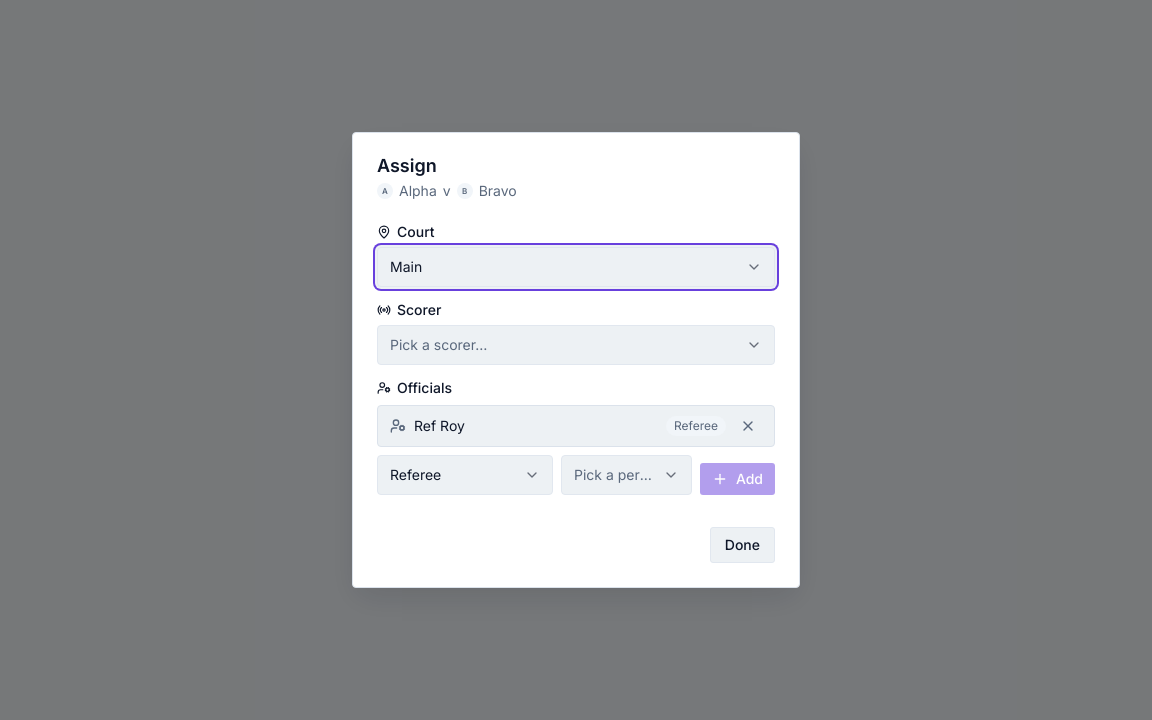
Scenario: AssignDrawer › still shows a hard error when the server actually refuses
The image size is (1152, 720).
Click the button "Pick a person…". click: (626, 475)
box: left=561, top=455, right=692, bottom=495
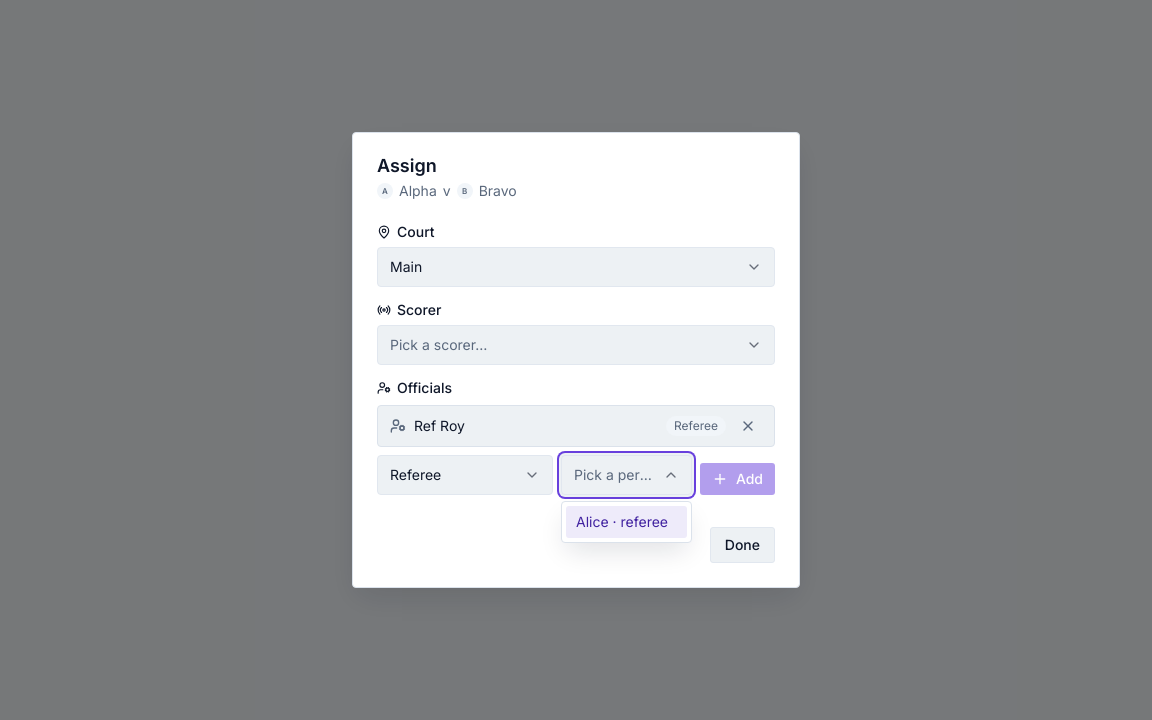
Click the option "Alice · referee". click: (626, 522)
box: left=566, top=506, right=687, bottom=538
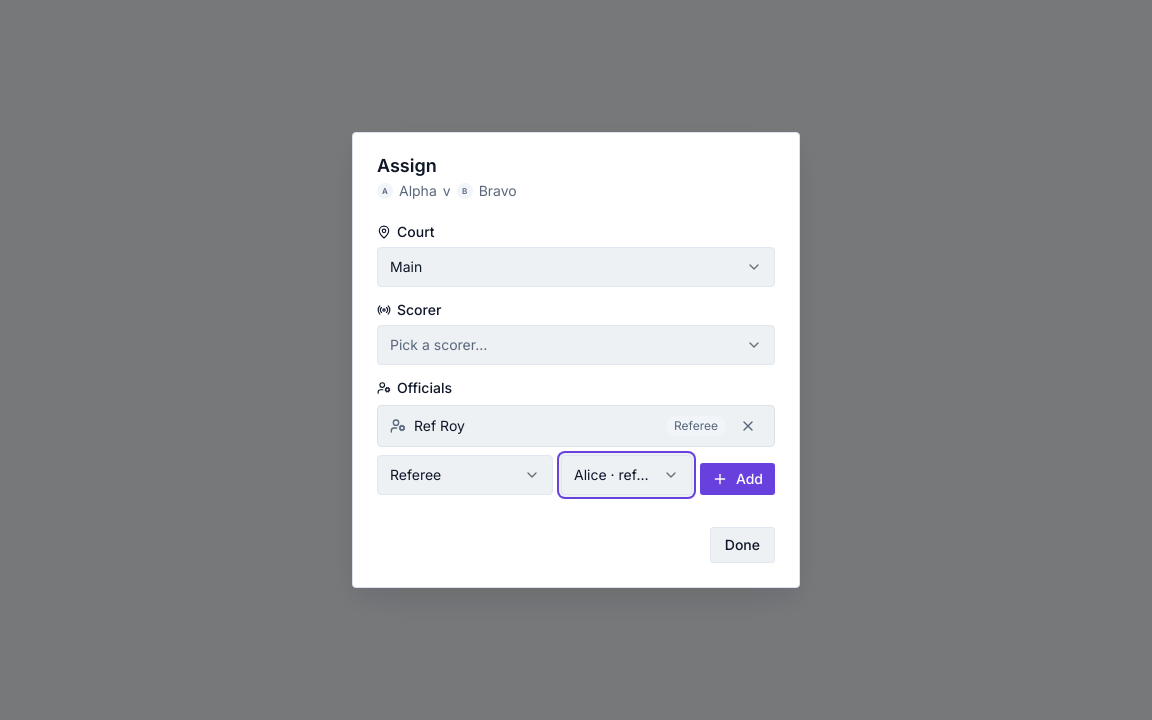
Click the button with test id "add-official". click: (737, 479)
box: left=700, top=463, right=775, bottom=495
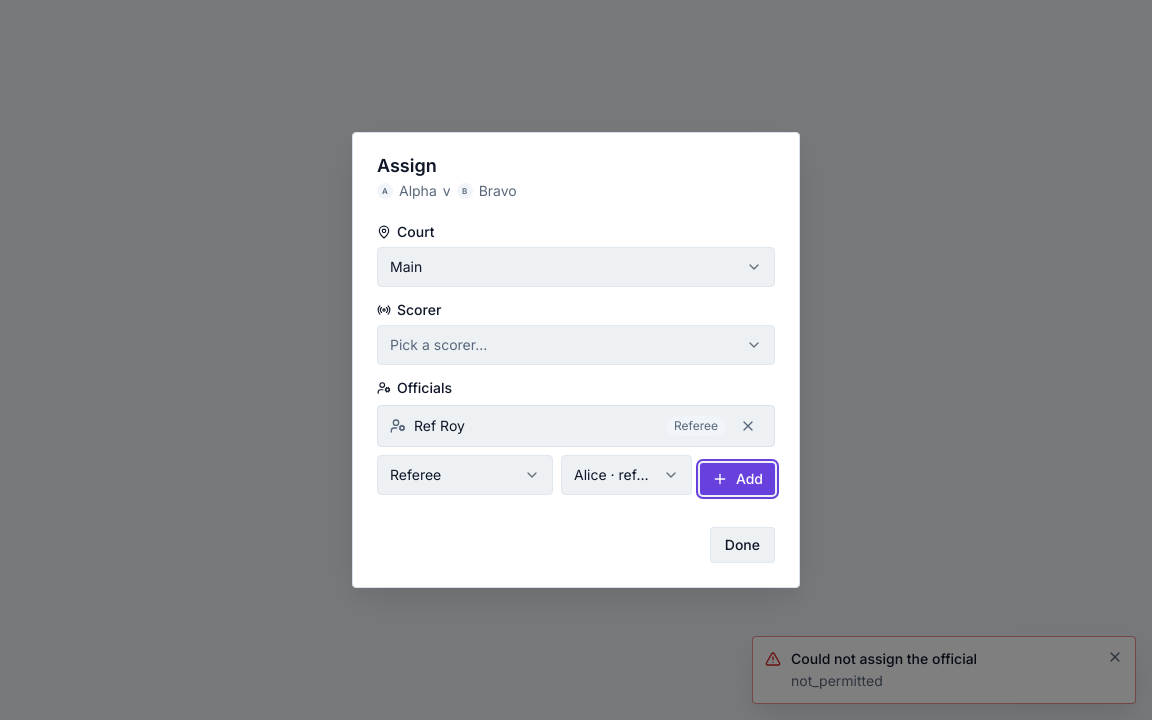
Result: the text "Could not assign the official" is shown at left=791, top=650, right=977, bottom=667
Result: the text "not_permitted" is shown at left=791, top=672, right=883, bottom=689
